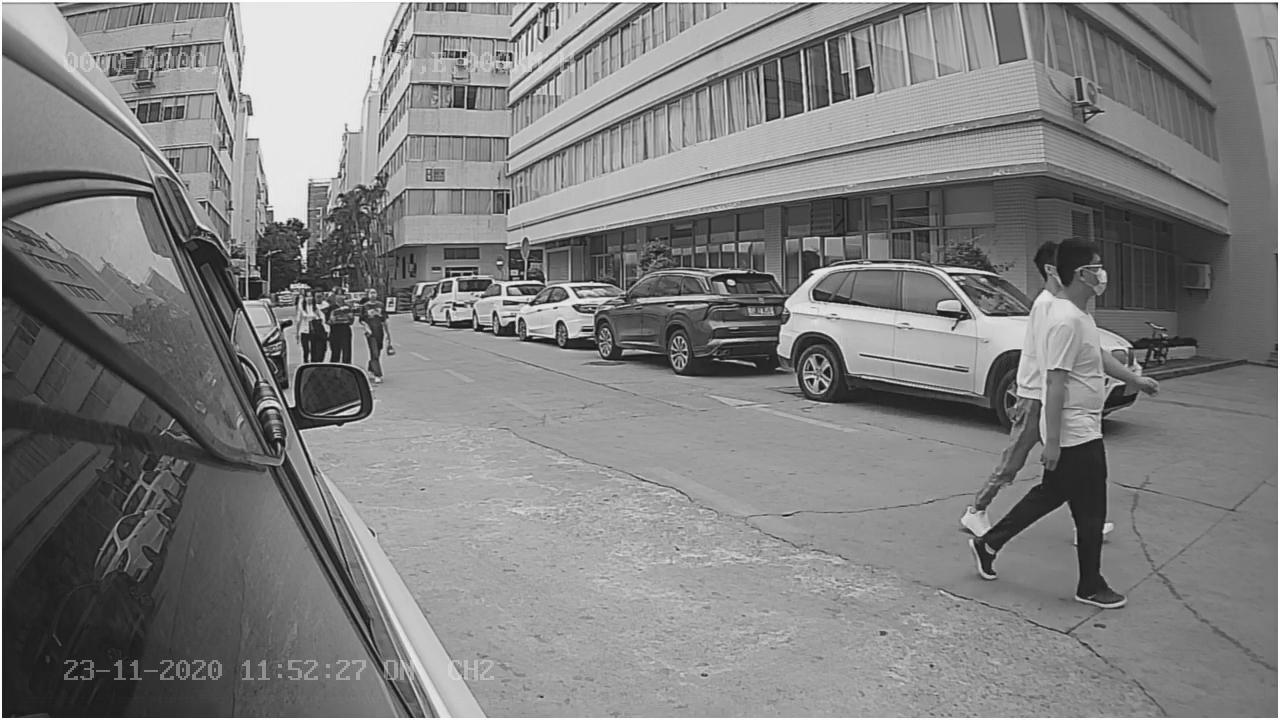person: (1036, 237, 1131, 615)
